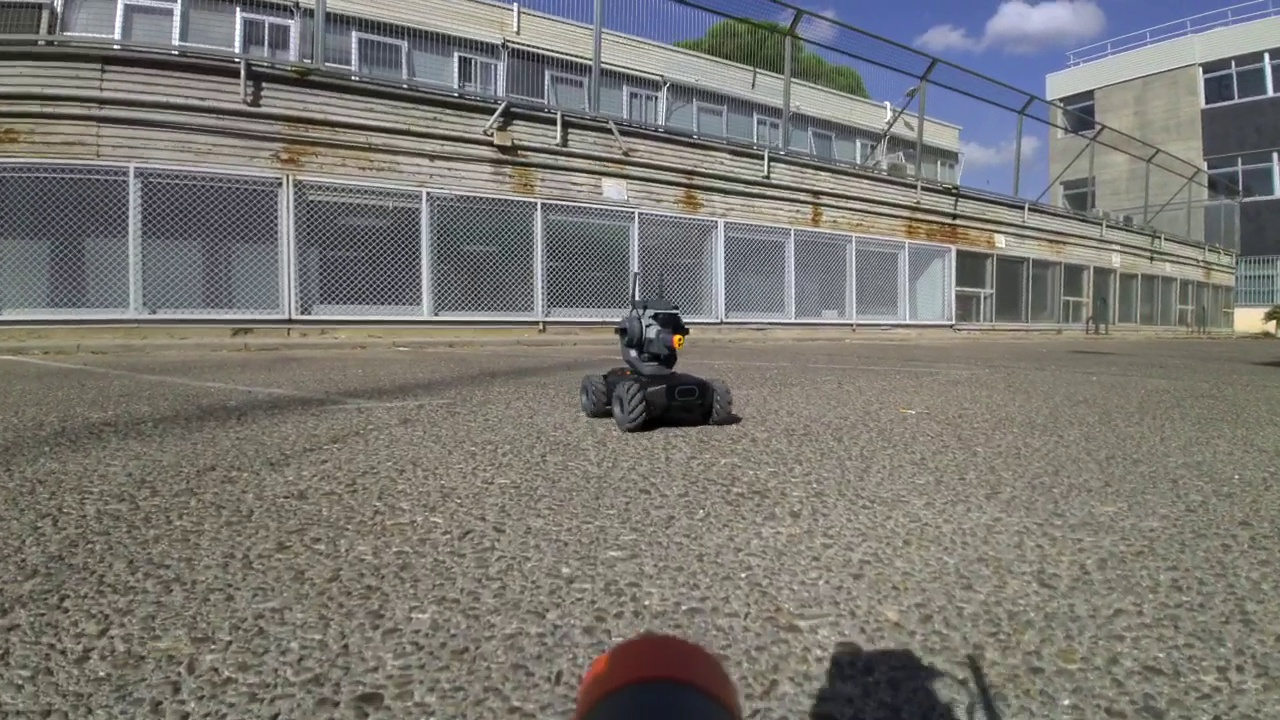robot: (580, 269, 730, 428)
